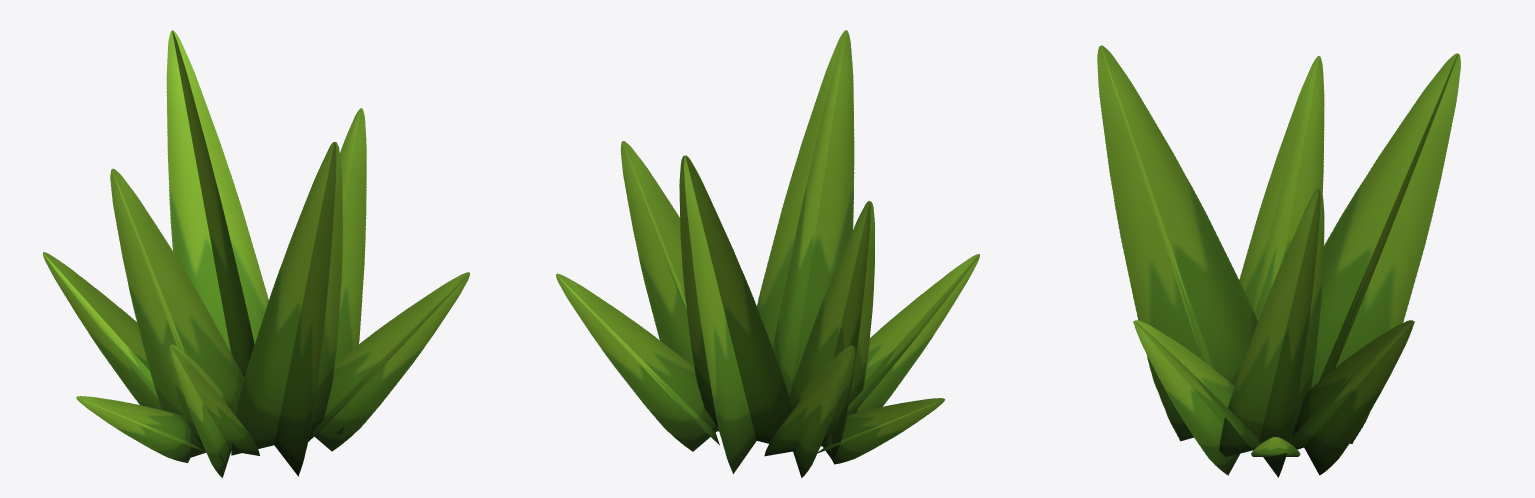
Rendered from F_W_O_plants_004.fbx.
3 renders of one model, left to right at view 1: azimuth 30°, elevation 25°; view 2: azimuth 150°, elevation 25°; view 3: azimuth 270°, elevation 25°, orthographic. The views are drawn at different scales.
Visible parts, largest first — view 1: F_W_O_plants_004; view 2: F_W_O_plants_004; view 3: F_W_O_plants_004.
Part boxes in pixels (left/top/right/bottom): F_W_O_plants_004: left=43, top=30, right=469, bottom=477; F_W_O_plants_004: left=556, top=30, right=979, bottom=477; F_W_O_plants_004: left=1097, top=45, right=1460, bottom=477.
Size of the model in its own units: 3.57 by 3.47 by 3.57.
